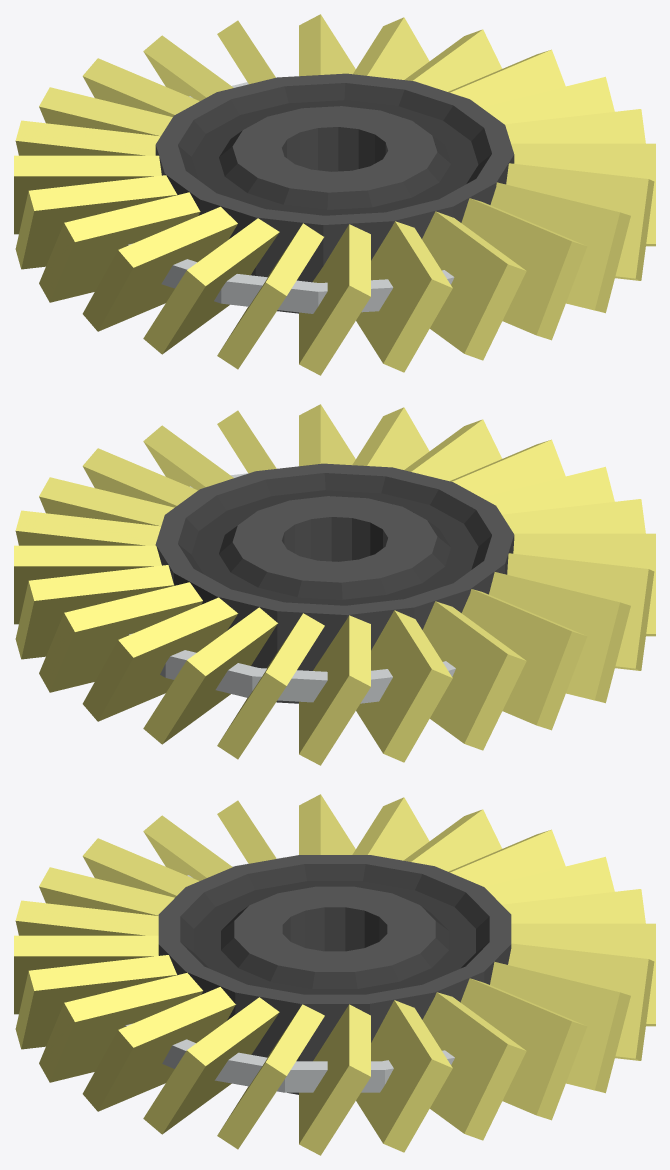
File: rotor_hss.obj
The picture shows the model from 3 angles, top to bottom: view 1: azimuth 30°, elevation 25°; view 2: azimuth 150°, elevation 25°; view 3: azimuth 270°, elevation 25°; orthographic projection.
Parts seen in each view (by area): view 1: 3, 2, 1, g, f, h, c, a, q, e, r, i (+16 smaller); view 2: 3, 2, 1, s, r, t, x, b, a, w, j, u (+16 smaller); view 3: 3, 2, 1, k, j, l, p, q, b, o, f, m (+16 smaller).
Boxes of the visible parts, <box> form: 3: <box>178,83,491,215</box>; 2: <box>155,73,514,313</box>; 1: <box>232,106,437,192</box>; g: <box>422,211,526,360</box>; f: <box>461,198,587,340</box>; h: <box>356,221,452,372</box>; c: <box>82,206,237,331</box>; a: <box>39,192,200,302</box>; q: <box>490,182,630,313</box>; e: <box>143,218,279,354</box>; r: <box>15,175,177,269</box>; i: <box>299,224,370,375</box>; 3: <box>178,473,491,605</box>; 2: <box>155,463,514,703</box>; 1: <box>232,496,437,582</box>; s: <box>422,601,526,750</box>; r: <box>461,589,587,730</box>; t: <box>356,610,452,762</box>; x: <box>82,597,238,721</box>; b: <box>39,582,202,692</box>; a: <box>489,572,630,703</box>; w: <box>143,607,277,744</box>; j: <box>15,565,174,659</box>; u: <box>299,615,370,765</box>; 3: <box>180,864,489,994</box>; 2: <box>158,855,511,1094</box>; 1: <box>234,886,435,971</box>; k: <box>422,992,526,1140</box>; j: <box>460,978,587,1120</box>; l: <box>356,1000,452,1152</box>; p: <box>82,987,235,1111</box>; q: <box>39,972,202,1082</box>; b: <box>490,961,630,1093</box>; o: <box>143,997,279,1134</box>; f: <box>15,955,176,1049</box>; m: <box>299,1004,370,1155</box>.
Bounding box in the file's own units: 1.59 × 0.25 × 1.59.
